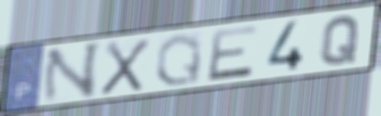4: (264, 18, 307, 74)
E: (205, 23, 262, 84)
N: (39, 39, 106, 106)
Q: (153, 31, 204, 88), (318, 14, 364, 67)
X: (97, 37, 153, 97)
